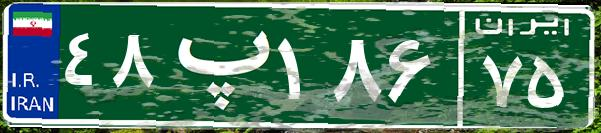1: (273, 28, 330, 110)
4: (57, 26, 110, 107)
5: (525, 38, 570, 115)
6: (385, 28, 445, 110)
7: (475, 38, 525, 113)
8: (330, 28, 385, 110), (110, 28, 158, 105)
پ: (158, 15, 273, 115)
